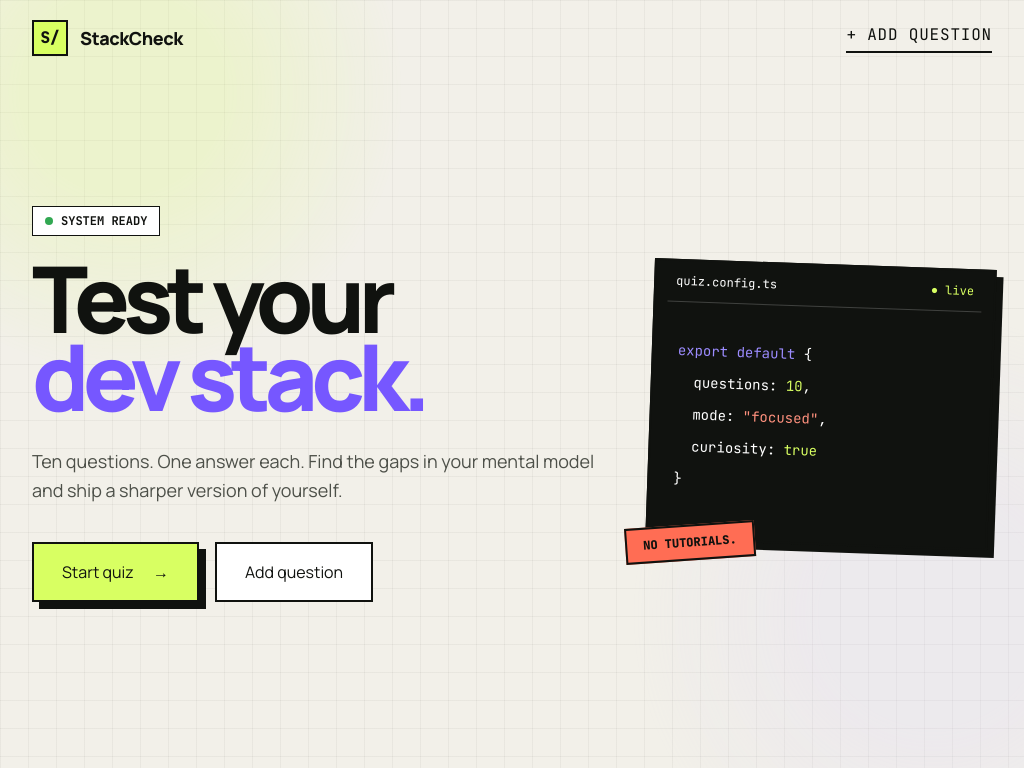
Test: QuizApp › shows local incorrect feedback without confetti
Click the button "Start quiz →" at x=115, y=572, box [32,542,199,602]
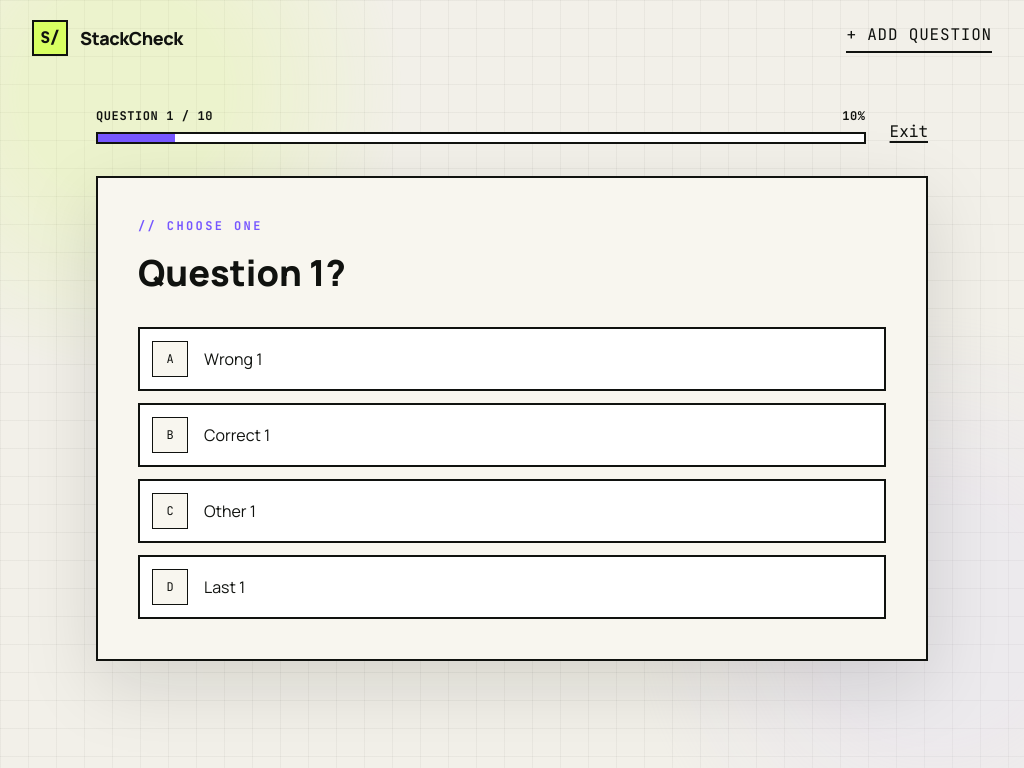
Click the button "A Wrong 1" at x=170, y=359, box [138,327,886,391]
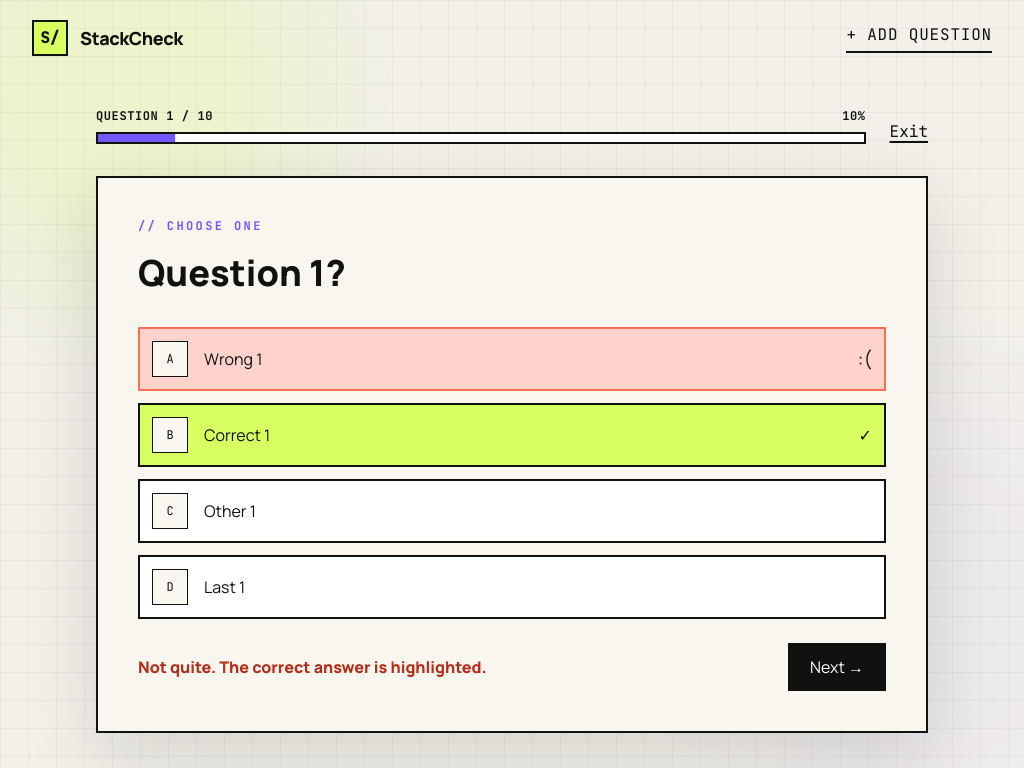
Expected: the text named "Incorrect" reads ":(", [858,345,872,372]
Expected: the text "Not quite. The correct answer is highlighted." is shown, [138,655,487,679]
